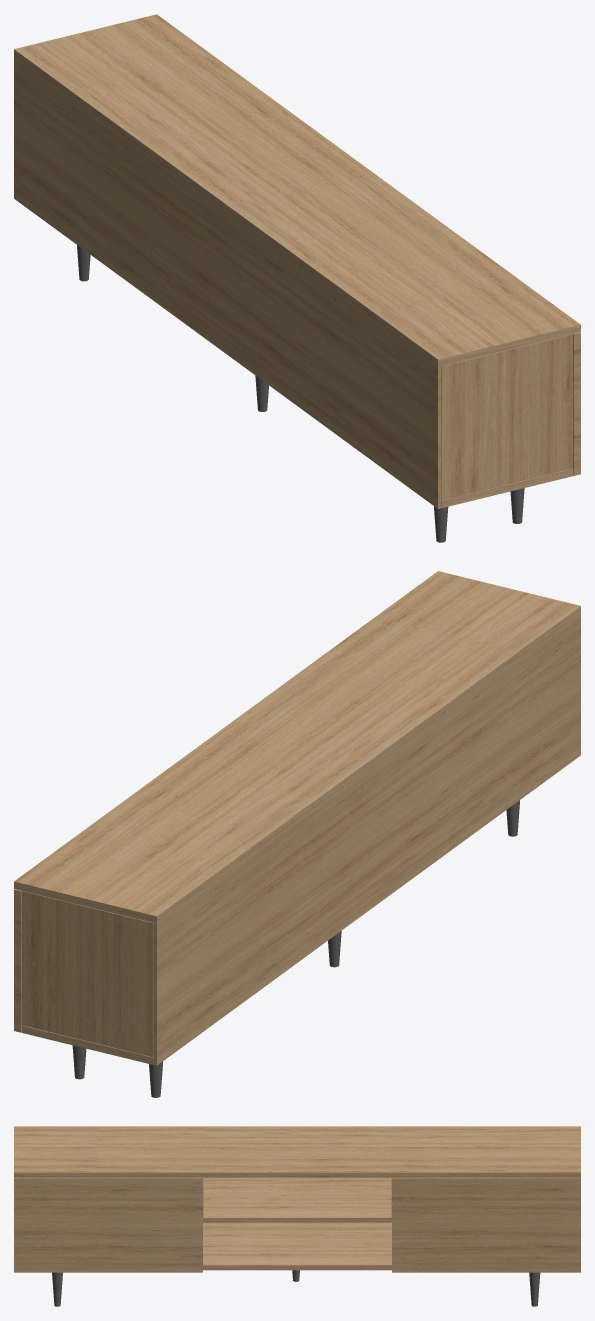
The model's file is ke-tivi-3.glb.
The picture shows the model from 3 angles, top to bottom: view 1: azimuth 30°, elevation 25°; view 2: azimuth 150°, elevation 25°; view 3: azimuth 270°, elevation 25°; orthographic projection. The views are drawn at different scales.
Parts seen in each view (by area): view 1: MAIN, DOOR; view 2: MAIN, DOOR; view 3: MAIN, DOOR.
Boxes of the visible parts, bbox=[...] form: MAIN: bbox=[14, 14, 580, 508]; DOOR: bbox=[77, 245, 524, 542]; MAIN: bbox=[14, 571, 580, 1065]; DOOR: bbox=[72, 800, 519, 1097]; MAIN: bbox=[14, 1126, 580, 1272]; DOOR: bbox=[52, 1270, 540, 1306].
Size of the model in its own units: 0.35 by 0.5 by 1.8.
2 materials, 1 textured.
